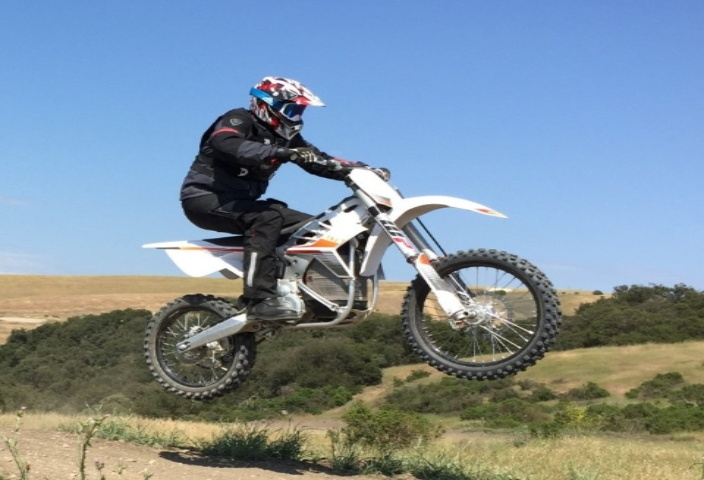motorcycle: (93, 52, 578, 420)
